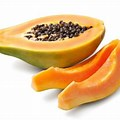papaya: (32, 39, 120, 111), (1, 14, 107, 70)
